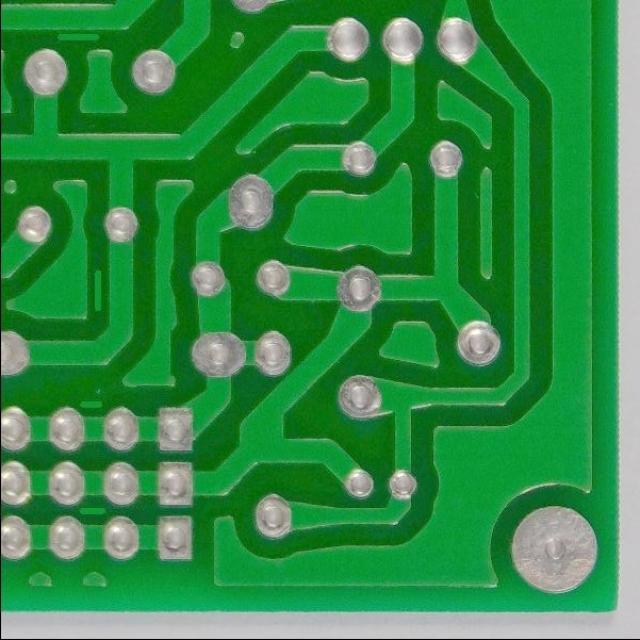spurious_copper: (82, 263, 113, 318), (53, 23, 102, 50), (74, 496, 110, 525), (74, 391, 106, 417)
